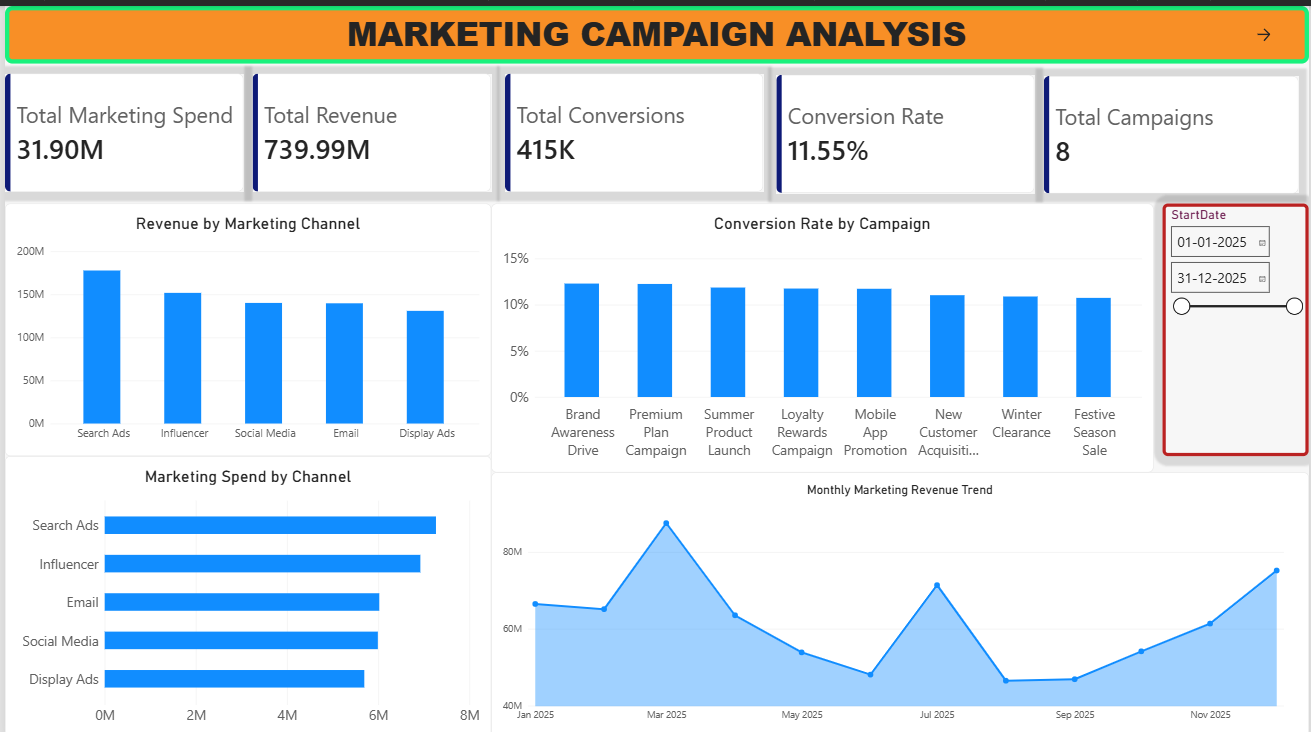

The dashboard page shown, as its layout file describes it:
{"tool":"powerbi","page":{"name":"Campaign Overview","canvas":[1920,1080],"ordinal":0},"visuals":[{"type":"textbox","box":[0,0,1919.6,84.7],"z":0},{"type":"cardVisual","title":"Total Sales","fields":{"Data":["Marketing Campaign Data.Total Marketing Spend"]},"box":[0,99.4,352,175],"z":2},{"type":"cardVisual","title":"Total Sales","fields":{"Data":["Marketing Campaign Data.Total Revenue"]},"box":[364.4,99.4,352,175],"z":3},{"type":"cardVisual","title":"Total Sales","fields":{"Data":["Marketing Campaign Data.Total Conversions"]},"box":[736.2,99.4,380.8,175],"z":4},{"type":"cardVisual","title":"Total Sales","fields":{"Data":["Marketing Campaign Data.Total Campaigns"]},"box":[1529.5,103.1,375.5,173],"z":6},{"type":"cardVisual","title":"Total Sales","fields":{"Data":["Marketing Campaign Data.Conversion Rate"]},"box":[1135.6,101.2,380.8,175],"z":7},{"type":"slicer","fields":{"Values":["Marketing Campaign Data.StartDate"]},"box":[1704.3,290.8,215.3,371.8],"z":8},{"type":"clusteredBarChart","title":"Marketing Spend by Channel","fields":{"Category":["Marketing Campaign Data.Channel"],"Y":["Marketing Campaign Data.Total Marketing Spend"]},"box":[0,662.6,716,417.8],"z":9},{"type":"clusteredColumnChart","title":"Conversion Rate by Campaign","fields":{"Category":["Marketing Campaign Data.CampaignName"],"Y":["Marketing Campaign Data.Conversion Rate"]},"box":[716,290.8,975.5,395.7],"z":10},{"type":"lineChart","title":"Monthly Marketing Revenue Trend","fields":{"Category":["Marketing Campaign Data.StartDate.Variation.Date Hierarchy.Year","Marketing Campaign Data.StartDate.Variation.Date Hierarchy.Month"],"Y":["Sum(Marketing Campaign Data.Revenue)"]},"box":[716,686.5,1203.7,388.3],"z":11},{"type":"clusteredColumnChart","title":"Revenue by Marketing Channel","fields":{"Category":["Marketing Campaign Data.Channel"],"Y":["Marketing Campaign Data.Total Revenue"]},"box":[0,290.8,716,371.8],"z":12},{"type":"actionButton","box":[1787.1,9.2,132.5,66.3],"z":13}]}

Visuals, with their boxes in screenshot pixels (x1, y1, x2, y2), scaled from the page's 1920x1080 canvas onto the 1311x732 screenshot:
textbox: bbox=[0, 0, 1310, 57]
"Total Sales" cardVisual: bbox=[0, 67, 240, 186]
"Total Sales" cardVisual: bbox=[249, 67, 489, 186]
"Total Sales" cardVisual: bbox=[503, 67, 763, 186]
"Total Sales" cardVisual: bbox=[1044, 70, 1301, 187]
"Total Sales" cardVisual: bbox=[775, 69, 1035, 187]
slicer - Marketing Campaign Data.StartDate: bbox=[1164, 197, 1310, 449]
"Marketing Spend by Channel" clusteredBarChart: bbox=[0, 449, 489, 731]
"Conversion Rate by Campaign" clusteredColumnChart: bbox=[489, 197, 1155, 465]
"Monthly Marketing Revenue Trend" lineChart: bbox=[489, 465, 1310, 728]
"Revenue by Marketing Channel" clusteredColumnChart: bbox=[0, 197, 489, 449]
actionButton: bbox=[1220, 6, 1310, 51]
